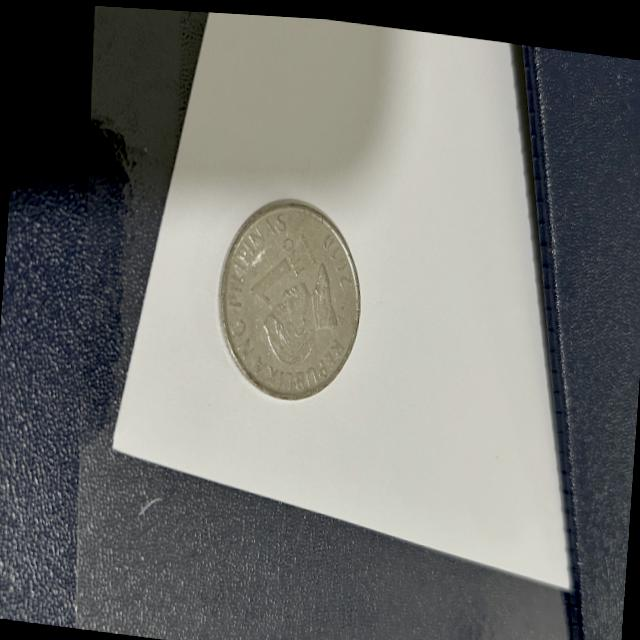1_Old_Front: (243, 226, 306, 309)
